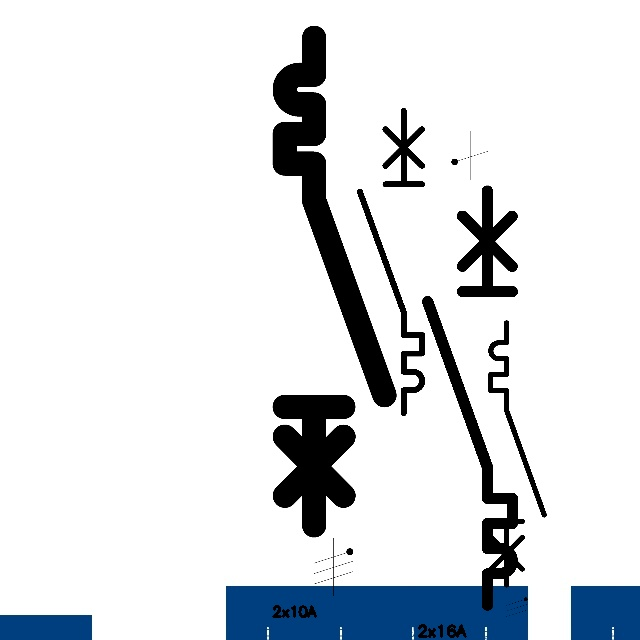interruptor_termomagnetico: (272, 25, 397, 537), (417, 180, 523, 615), (352, 103, 430, 421), (484, 316, 551, 591)
